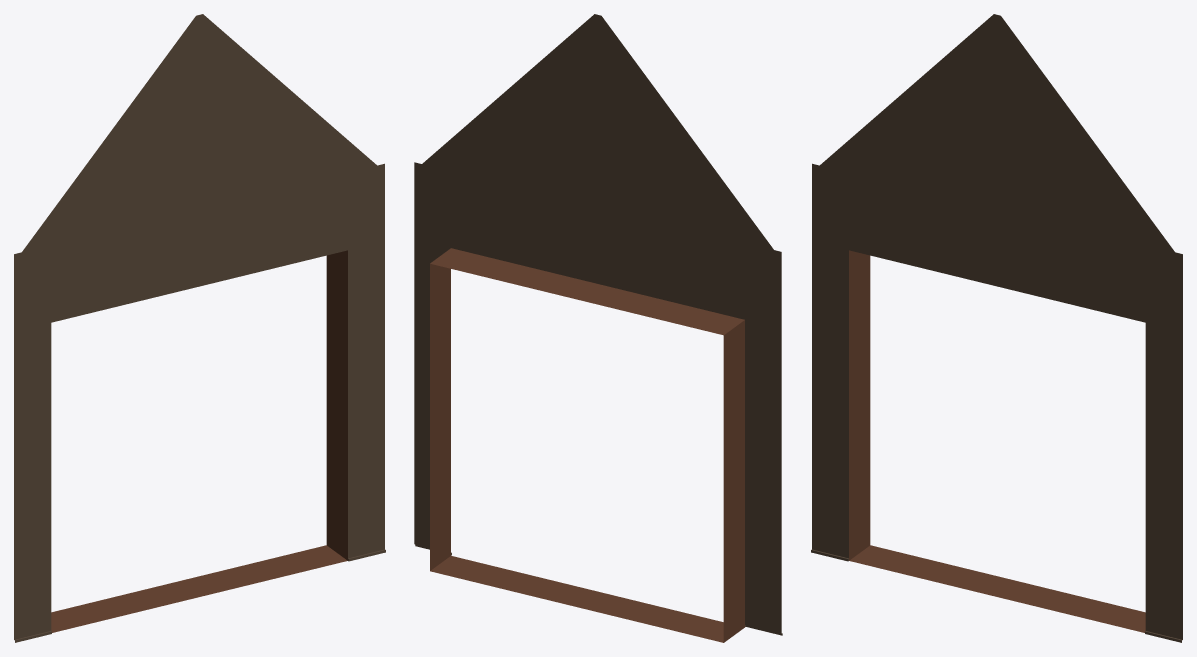
Rendered from Tile09_fix.fbx.
3 renders of one model, left to right at view 1: azimuth 30°, elevation 25°; view 2: azimuth 150°, elevation 25°; view 3: azimuth 330°, elevation 25°, orthographic.
Parts seen in each view (by area): view 1: Tile9; view 2: Tile9; view 3: Tile9.
Boxes of the visible parts, bbox=[...] form: Tile9: bbox=[14, 14, 385, 642]; Tile9: bbox=[414, 14, 782, 642]; Tile9: bbox=[811, 14, 1182, 642].
Bounding box in the file's own units: 500 × 750 × 52.
